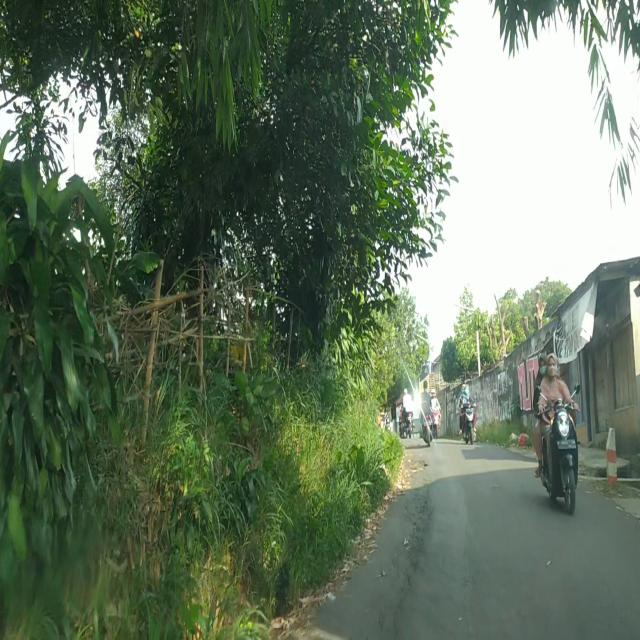Drain Hole: (399, 488, 430, 610)
